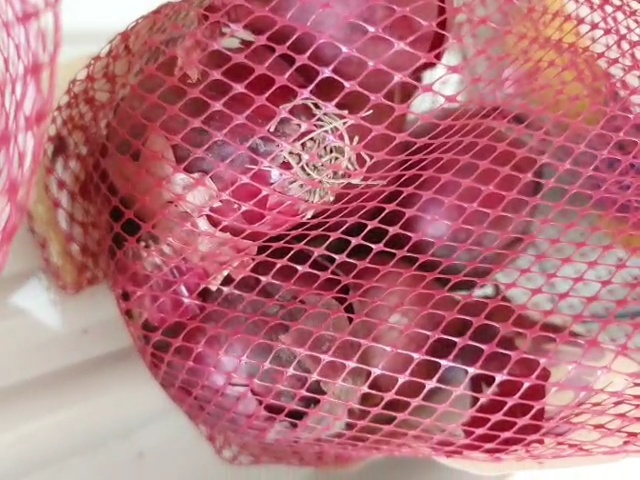red_onion: (100, 4, 557, 455)
